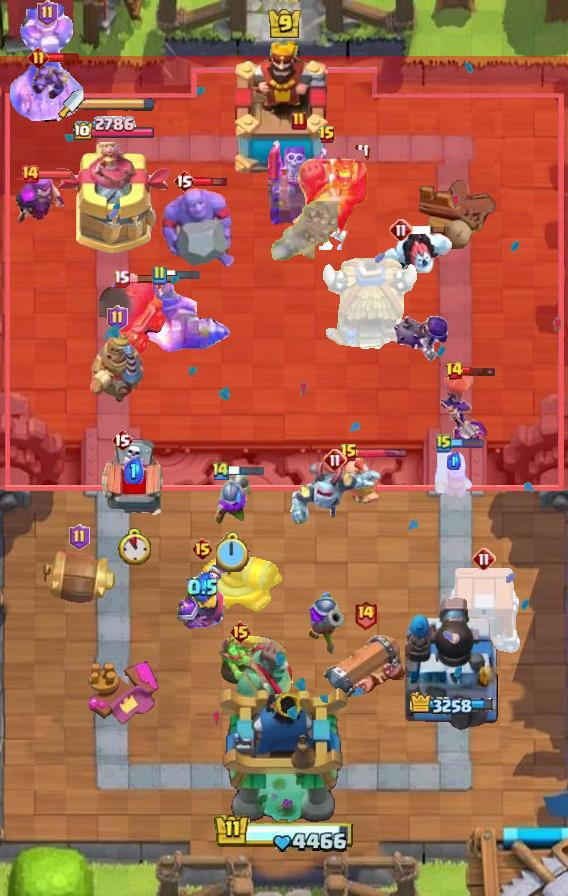archer-queen: (158, 185, 240, 273)
bar: (55, 142, 173, 256)
battle-healer: (321, 632, 409, 704)
bomb: (445, 568, 523, 654)
bomb-tower: (306, 589, 344, 655), (215, 473, 251, 525)
clock: (214, 814, 354, 855)
electro-dragon: (8, 0, 86, 128)
electro-spirit: (187, 573, 217, 603), (124, 457, 144, 484), (447, 452, 461, 470)
elixir: (216, 532, 250, 572), (117, 527, 150, 565)
elixir-golem-mid: (99, 438, 169, 524)
elixir-golem-small: (287, 460, 383, 526)
emote: (127, 273, 179, 284), (356, 448, 408, 459), (192, 175, 227, 189), (166, 268, 203, 281), (230, 464, 267, 477), (461, 365, 497, 377), (37, 168, 73, 179), (449, 439, 485, 450), (46, 52, 80, 63), (410, 225, 446, 235)
executioner: (341, 456, 381, 508)
firecracker-evolution: (173, 563, 232, 630)
fisherman: (269, 201, 338, 264)
goblin-ball: (391, 306, 451, 364)
king-tower: (216, 684, 352, 826), (228, 41, 340, 181)
king-tower-bar: (84, 97, 156, 111)
lava-hound: (283, 140, 371, 250), (218, 628, 298, 726)
prince: (320, 258, 422, 354)
rage: (379, 226, 455, 282)
ram-rider: (87, 330, 147, 404)
rascal-girl: (15, 170, 69, 228)
royal-delivery: (30, 62, 74, 100)
royal-giant-evolution: (99, 282, 167, 356)
royal-recruit: (202, 551, 284, 621)
selected: (72, 116, 156, 143), (410, 692, 496, 718)
skeleton-king-bar: (268, 136, 330, 226)
tesla-evolution: (438, 369, 490, 447)
text: (353, 599, 378, 630), (389, 218, 413, 242), (323, 448, 347, 472), (472, 547, 496, 571), (37, 0, 59, 26), (69, 524, 91, 550), (191, 537, 214, 561), (228, 620, 251, 644), (107, 305, 128, 331), (173, 169, 195, 193), (111, 428, 133, 452), (27, 47, 48, 69), (211, 460, 231, 481), (20, 164, 40, 184), (445, 361, 464, 381), (318, 125, 336, 145), (340, 443, 358, 463), (291, 111, 307, 131), (151, 265, 167, 285), (436, 433, 452, 453), (114, 269, 131, 287)
the-log: (39, 551, 119, 605)
tombstone: (433, 442, 475, 500)
tower-bar: (405, 595, 501, 731)
wizard: (107, 275, 231, 353)
